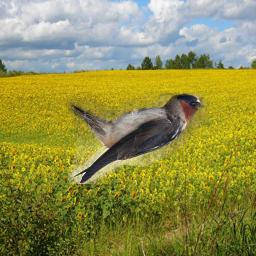Swallow: (68, 93, 209, 184)
